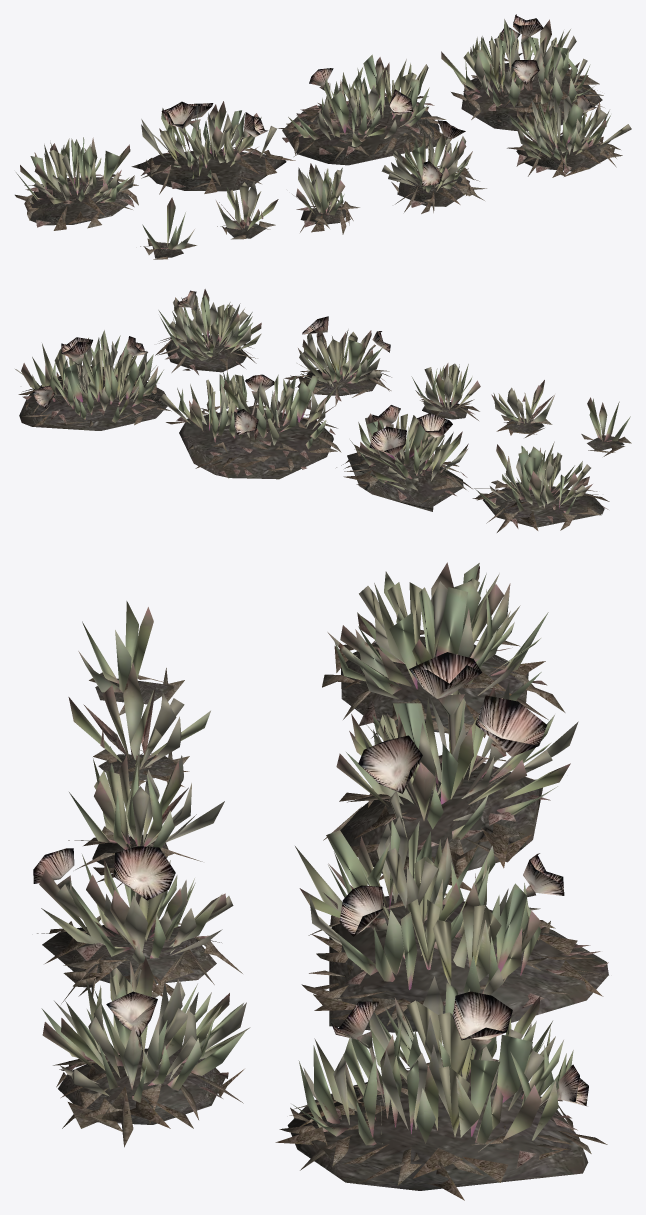
File: cheiridopsis_succulent.glb
The picture shows the model from 3 angles, top to bottom: view 1: azimuth 30°, elevation 25°; view 2: azimuth 150°, elevation 25°; view 3: azimuth 270°, elevation 25°; orthographic projection. The views are drawn at different scales.
Visible parts, largest first — view 1: cheiridopsis_succulent_a_LOD0, cheiridopsis_succulent_d_LOD0; view 2: cheiridopsis_succulent_a_LOD0, cheiridopsis_succulent_d_LOD0; view 3: cheiridopsis_succulent_a_LOD0, cheiridopsis_succulent_d_LOD0.
Part boxes in pixels (x1,y1,x2,y2): cheiridopsis_succulent_a_LOD0: (15,19,631,259); cheiridopsis_succulent_d_LOD0: (161,14,596,186); cheiridopsis_succulent_a_LOD0: (15,289,631,532); cheiridopsis_succulent_d_LOD0: (32,290,452,455); cheiridopsis_succulent_a_LOD0: (37,562,608,1200); cheiridopsis_succulent_d_LOD0: (33,652,588,1106).
Bounding box in the file's own units: 2.16 × 0.2708 × 0.9586.
Materials: 2 (2 with a texture image).
